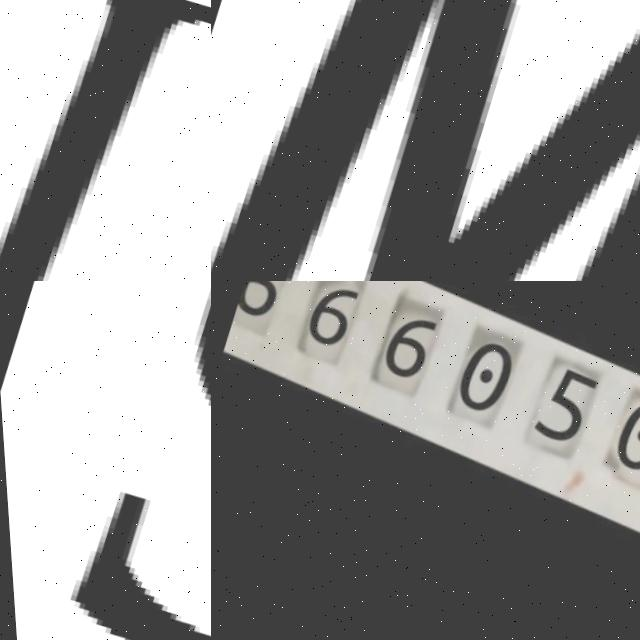0: (428, 319, 530, 438), (583, 382, 640, 499)
5: (507, 351, 608, 467)
6: (356, 290, 449, 399), (279, 281, 370, 367), (223, 281, 300, 338)
M: (211, 0, 640, 281)
S: (14, 281, 211, 640)
U: (0, 0, 211, 281)
